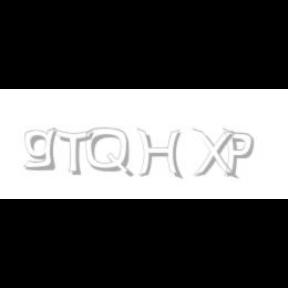H: (137, 128, 183, 180)
P: (222, 128, 254, 178)
Q: (86, 128, 132, 178)
T: (53, 128, 93, 176)
X: (192, 128, 236, 180)
g: (24, 128, 60, 171)
